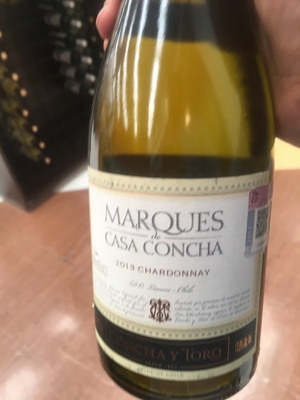marques de casa concha chardonnay: (81, 15, 287, 392)
